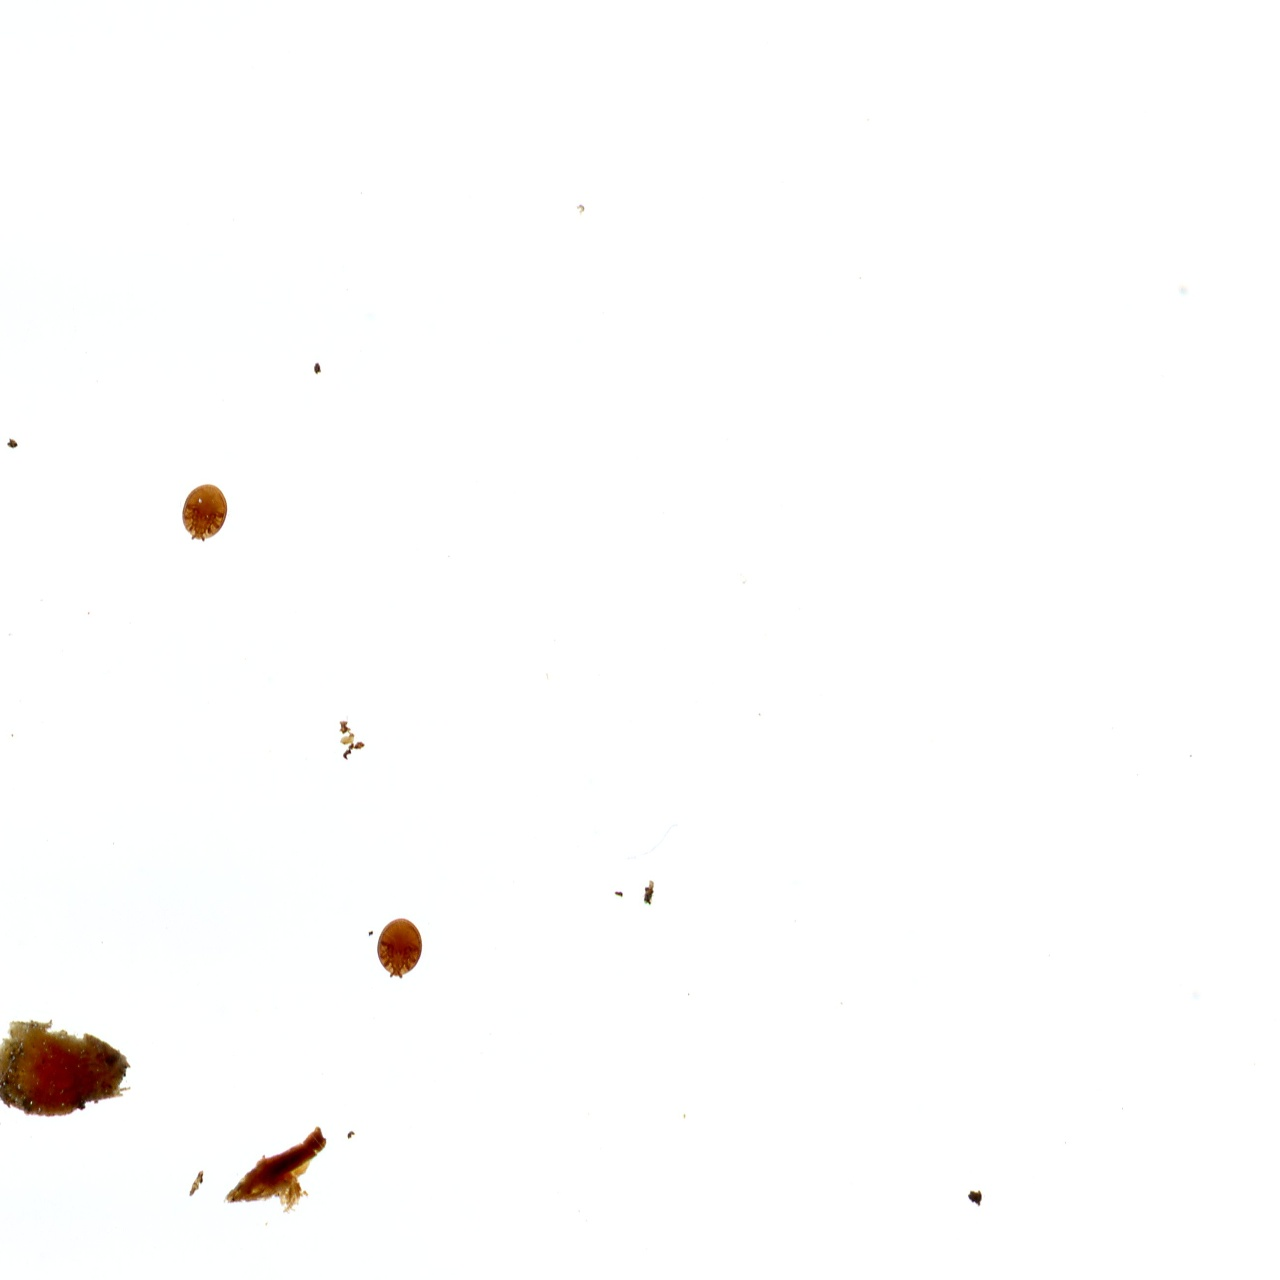arthropod: (372, 912, 425, 985), (181, 482, 232, 545)
